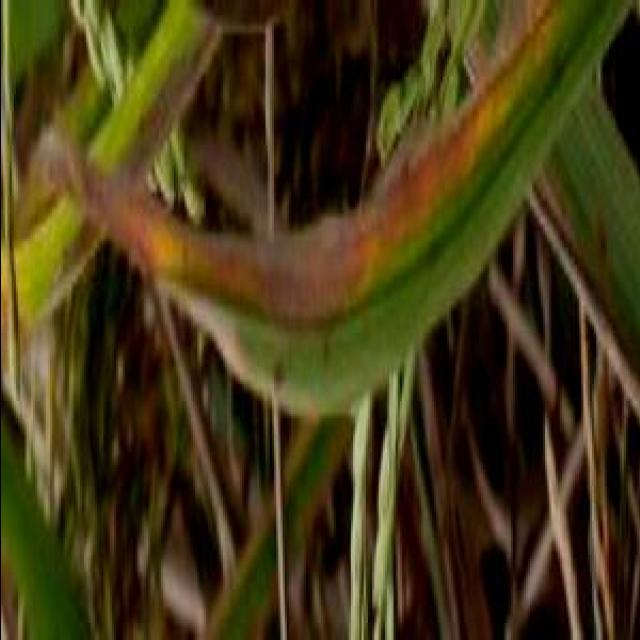Bacterial_Leaf_Blight: (168, 220, 486, 399)
